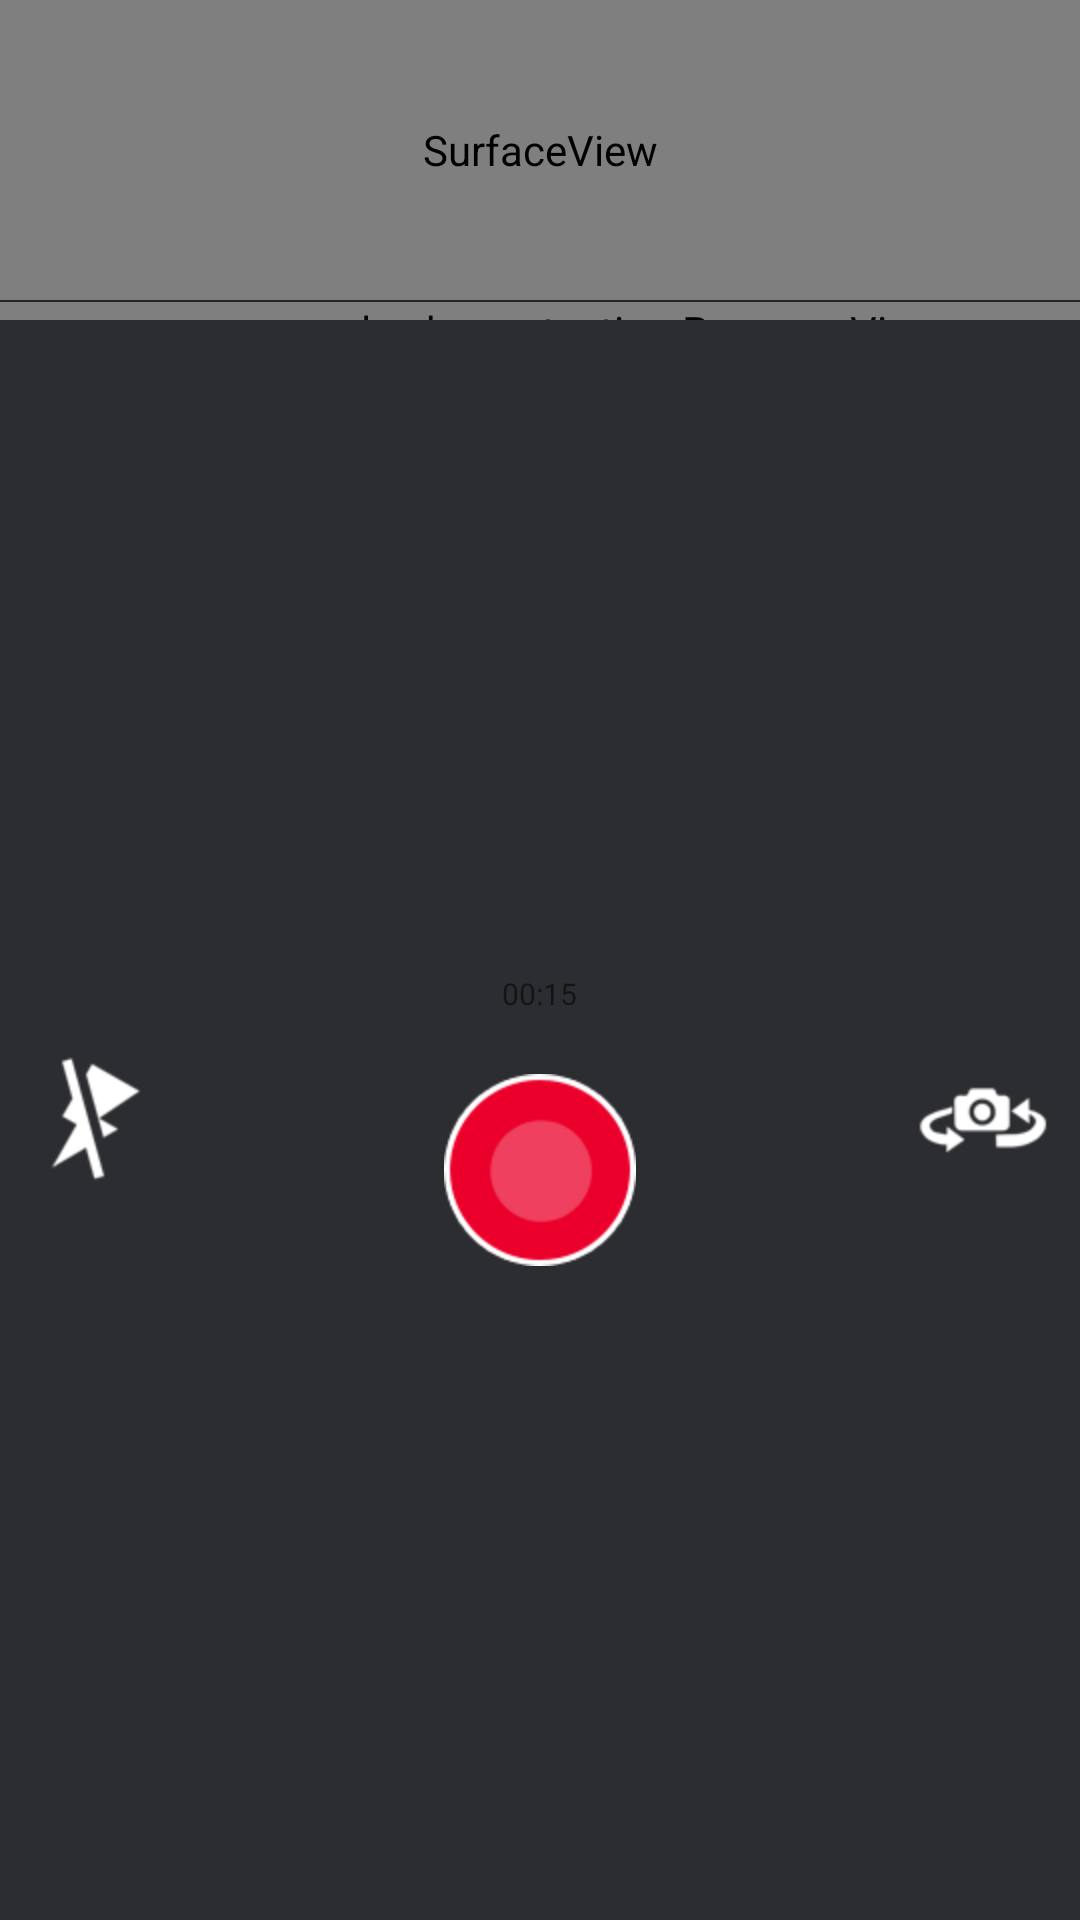

Where icons sit on this 1080x1920 app screen, as region(x1, y1, x2, y2):
noflash: region(52, 1058, 140, 1180)
rotate camera: region(919, 1087, 1047, 1153)
video: region(444, 1074, 636, 1266)
